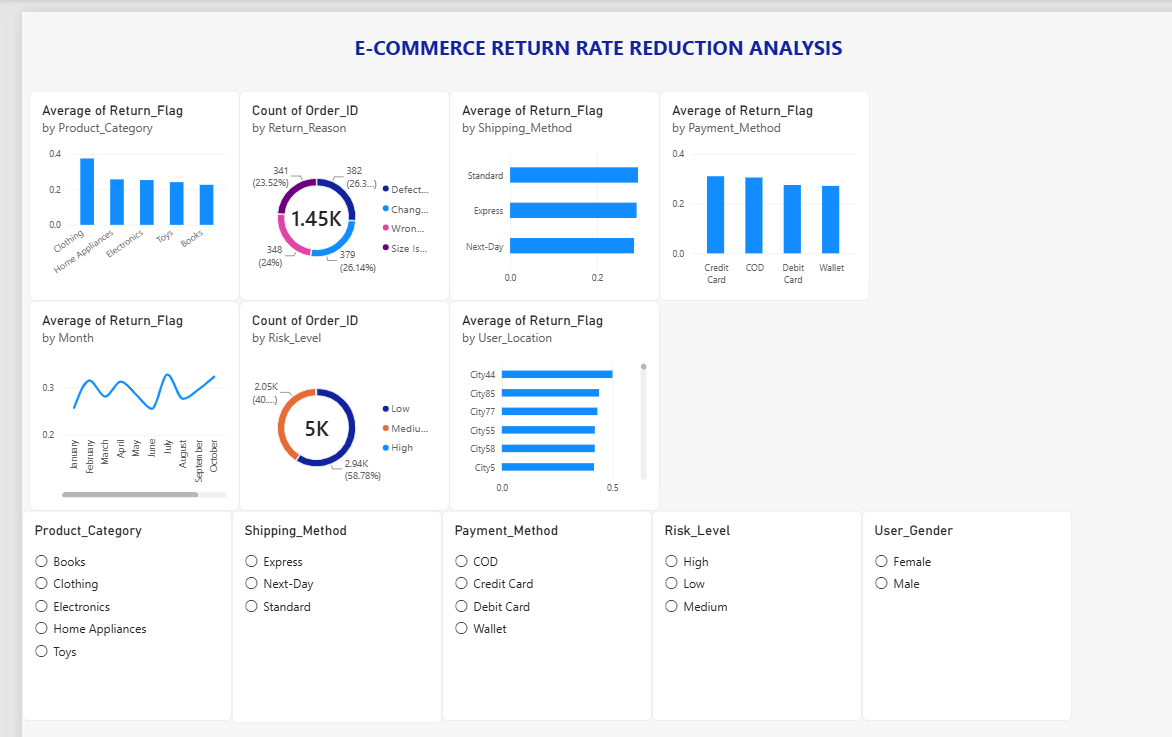

This screenshot's page, from the dashboard's own definition file:
{"tool":"powerbi","page":{"name":"Page 1","canvas":[1920,1080],"ordinal":0},"visuals":[{"type":"clusteredColumnChart","fields":{"Category":["return_risk_predictions.Product_Category"],"Y":["Avg(return_risk_predictions.Return_Flag)"]},"box":[10,105,280,280],"z":0},{"type":"donutChart","fields":{"Category":["return_risk_predictions.Return_Reason"],"Y":["CountNonNull(return_risk_predictions.Order_ID)"]},"box":[290,105,280,280],"z":1},{"type":"clusteredBarChart","fields":{"Category":["return_risk_predictions.Shipping_Method"],"Y":["Avg(return_risk_predictions.Return_Flag)"]},"box":[570,105,280,280],"z":2},{"type":"clusteredColumnChart","fields":{"Category":["return_risk_predictions.Payment_Method"],"Y":["Avg(return_risk_predictions.Return_Flag)"]},"box":[850,105,280,280],"z":3},{"type":"lineChart","fields":{"Y":["Avg(return_risk_predictions.Return_Flag)"],"Category":["return_risk_predictions.Order_Date.Variation.Date Hierarchy.Month"]},"box":[10,385,280,280],"z":4},{"type":"donutChart","fields":{"Category":["return_risk_predictions.Risk_Level"],"Y":["CountNonNull(return_risk_predictions.Order_ID)"]},"box":[290,385,280,280],"z":5},{"type":"clusteredBarChart","fields":{"Category":["return_risk_predictions.User_Location"],"Y":["Avg(return_risk_predictions.Return_Flag)"]},"box":[570,385,280,280],"z":6},{"type":"listSlicer","fields":{"Values":["return_risk_predictions.Product_Category"]},"box":[0,665,280,280],"z":7},{"type":"listSlicer","fields":{"Values":["return_risk_predictions.Shipping_Method"]},"box":[280,665,280,283.3],"z":8},{"type":"listSlicer","fields":{"Values":["return_risk_predictions.Payment_Method"]},"box":[560,665,280,280],"z":9},{"type":"listSlicer","fields":{"Values":["return_risk_predictions.Risk_Level"]},"box":[840,665,280,280],"z":10},{"type":"listSlicer","fields":{"Values":["return_risk_predictions.User_Gender"]},"box":[1120,665,280,280],"z":11},{"type":"textbox","box":[443.3,28.3,1246.7,60],"z":12}]}

Visuals, with their boxes on the page's 1920x1080 design canvas (x1, y1, x2, y2). These are canvas units, not pixel positions in the 1172x737 screenshot, which may show the page scaled, cropped or inside an application window:
clusteredColumnChart - return_risk_predictions.Product_Category x Avg(return_risk_predictions.Return_Flag): (10, 105, 290, 385)
donutChart - return_risk_predictions.Return_Reason x CountNonNull(return_risk_predictions.Order_ID): (290, 105, 570, 385)
clusteredBarChart - return_risk_predictions.Shipping_Method x Avg(return_risk_predictions.Return_Flag): (570, 105, 850, 385)
clusteredColumnChart - return_risk_predictions.Payment_Method x Avg(return_risk_predictions.Return_Flag): (850, 105, 1130, 385)
lineChart - Avg(return_risk_predictions.Return_Flag) x return_risk_predictions.Order_Date.Variation.Date Hierarchy.Month: (10, 385, 290, 665)
donutChart - return_risk_predictions.Risk_Level x CountNonNull(return_risk_predictions.Order_ID): (290, 385, 570, 665)
clusteredBarChart - return_risk_predictions.User_Location x Avg(return_risk_predictions.Return_Flag): (570, 385, 850, 665)
listSlicer - return_risk_predictions.Product_Category: (0, 665, 280, 945)
listSlicer - return_risk_predictions.Shipping_Method: (280, 665, 560, 948)
listSlicer - return_risk_predictions.Payment_Method: (560, 665, 840, 945)
listSlicer - return_risk_predictions.Risk_Level: (840, 665, 1120, 945)
listSlicer - return_risk_predictions.User_Gender: (1120, 665, 1400, 945)
textbox: (443, 28, 1690, 88)
